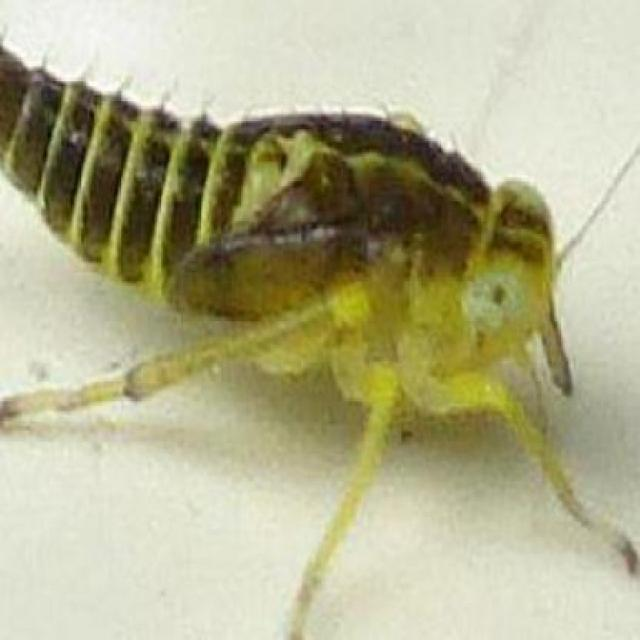green-leafhopper: (11, 48, 564, 498)
